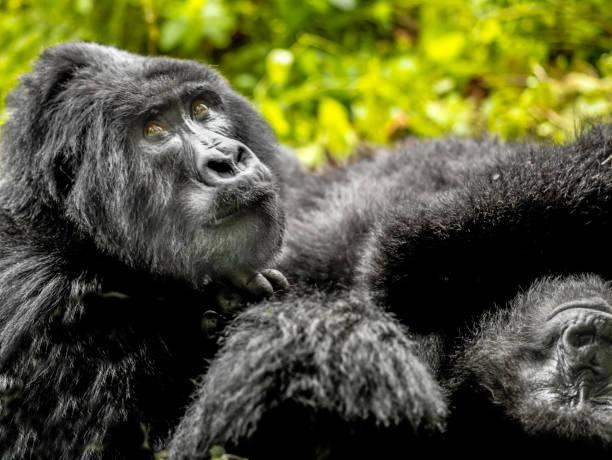goriile_montagne: (5, 29, 433, 460)
